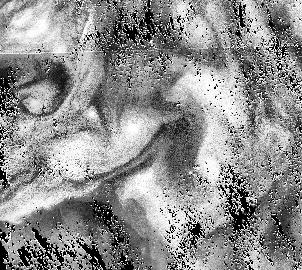AE: (20, 60, 74, 118)
